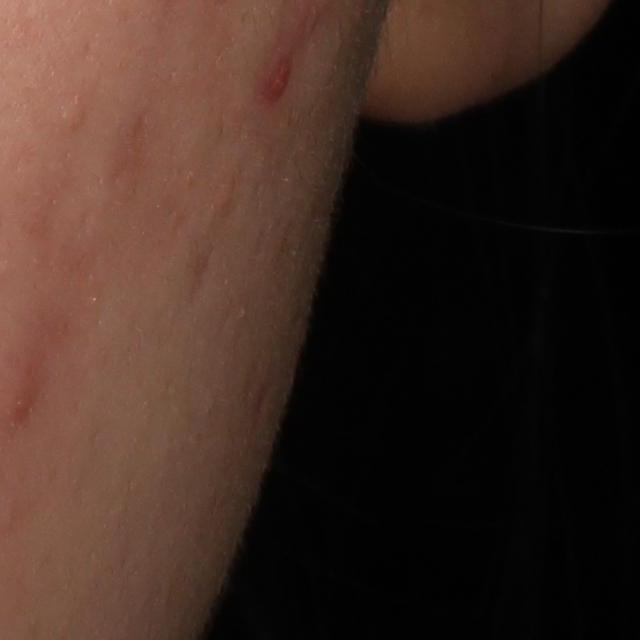comedo: (60, 95, 88, 129)
papule: (3, 376, 39, 432), (264, 64, 294, 103)
